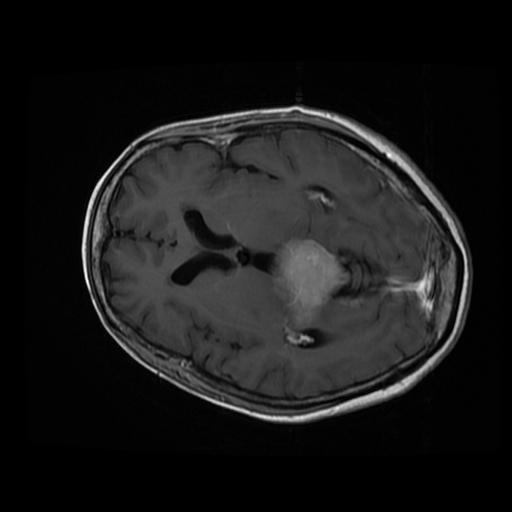meningioma: (270, 238, 348, 328)
